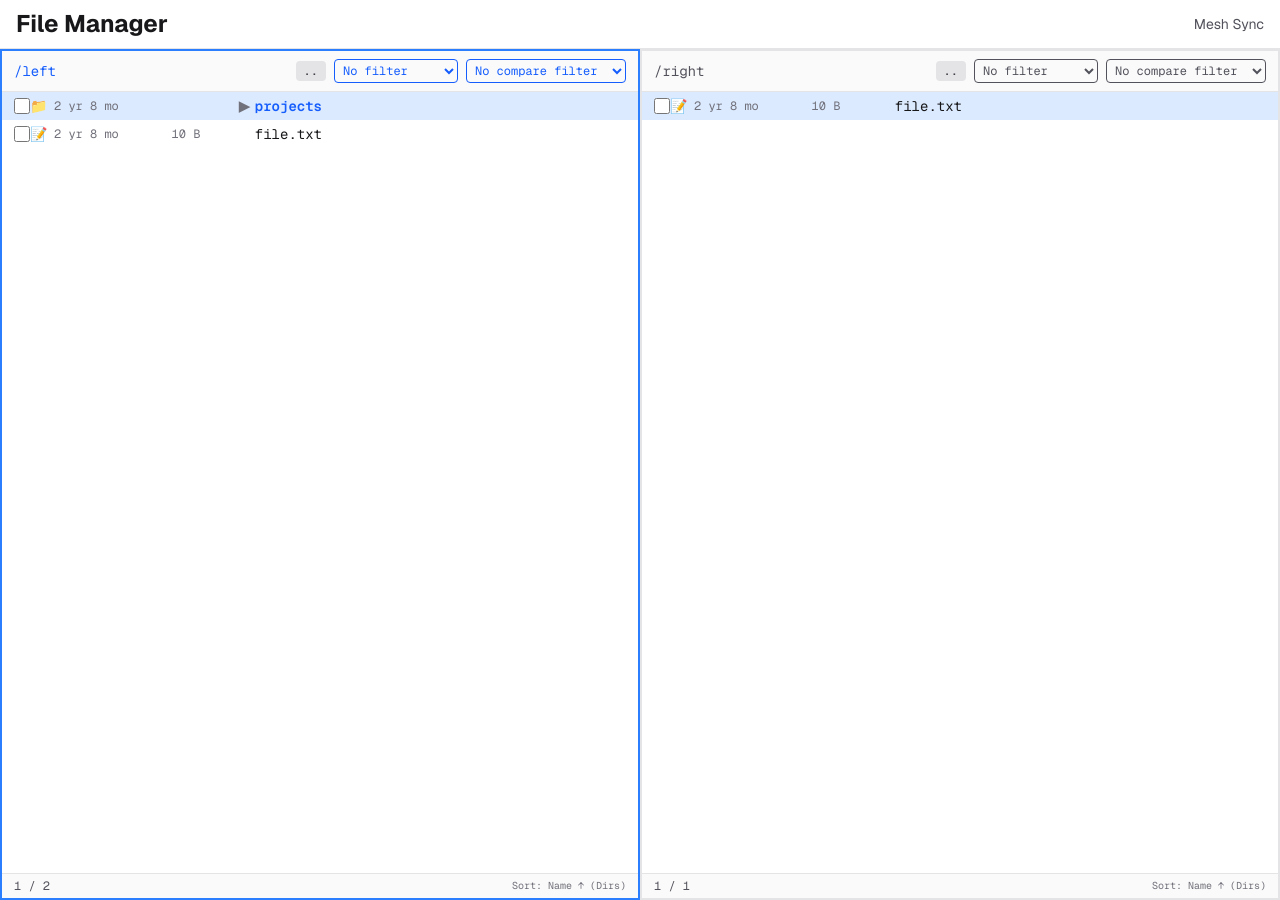
Test: WorkspaceView set base directory [SET_BASE_DIRECTORY] › opens dialog with directory path and applies In this pane
expect the element with test id "pane-0" is shown: met, box top-left (0, 49), bottom-right (640, 899)
Right-click the text "projects" at (320, 106), box top-left (2, 92), bottom-right (638, 120)
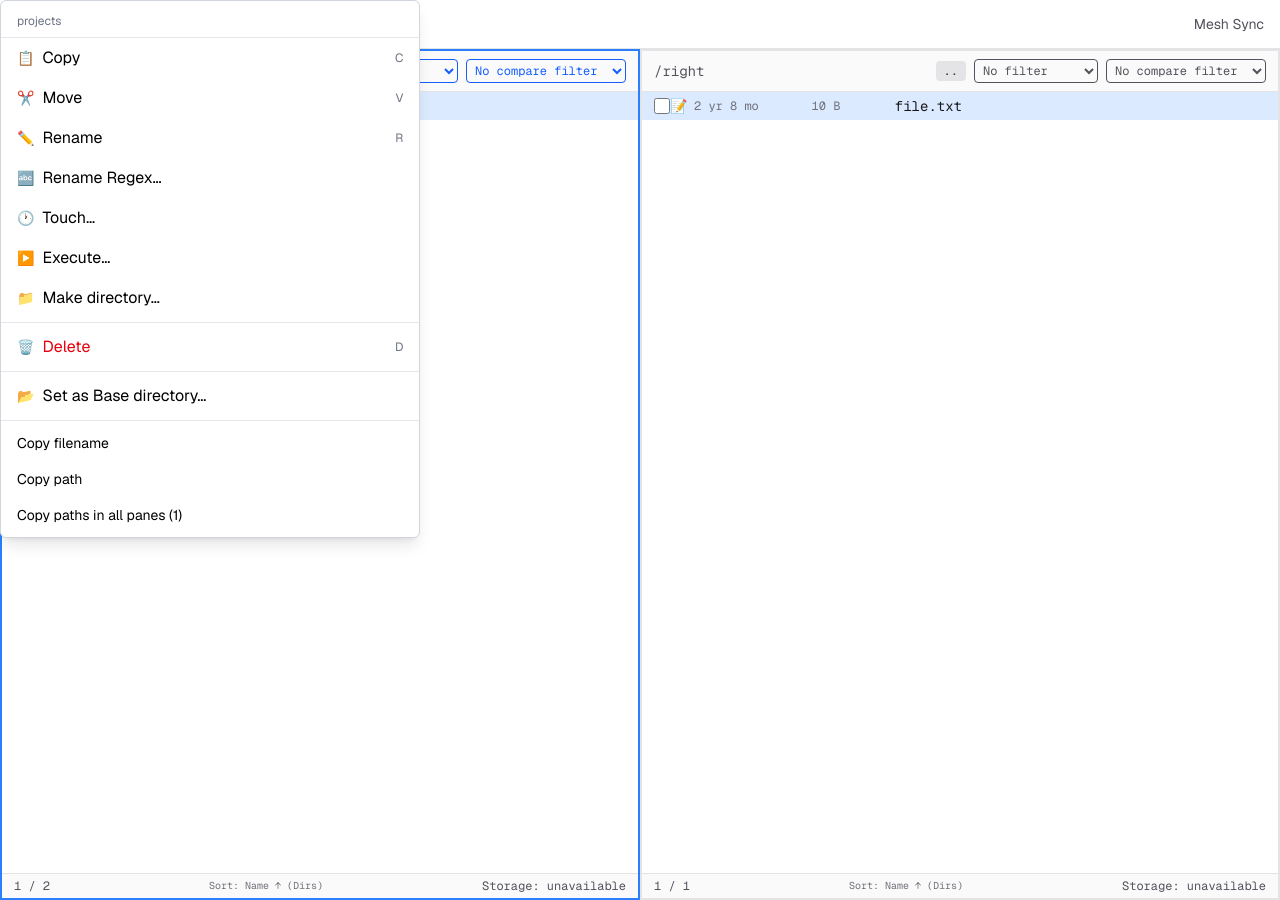
Click the menu item with test id "set-base-directory-menu-item" at (124, 396), box top-left (1, 376), bottom-right (419, 416)
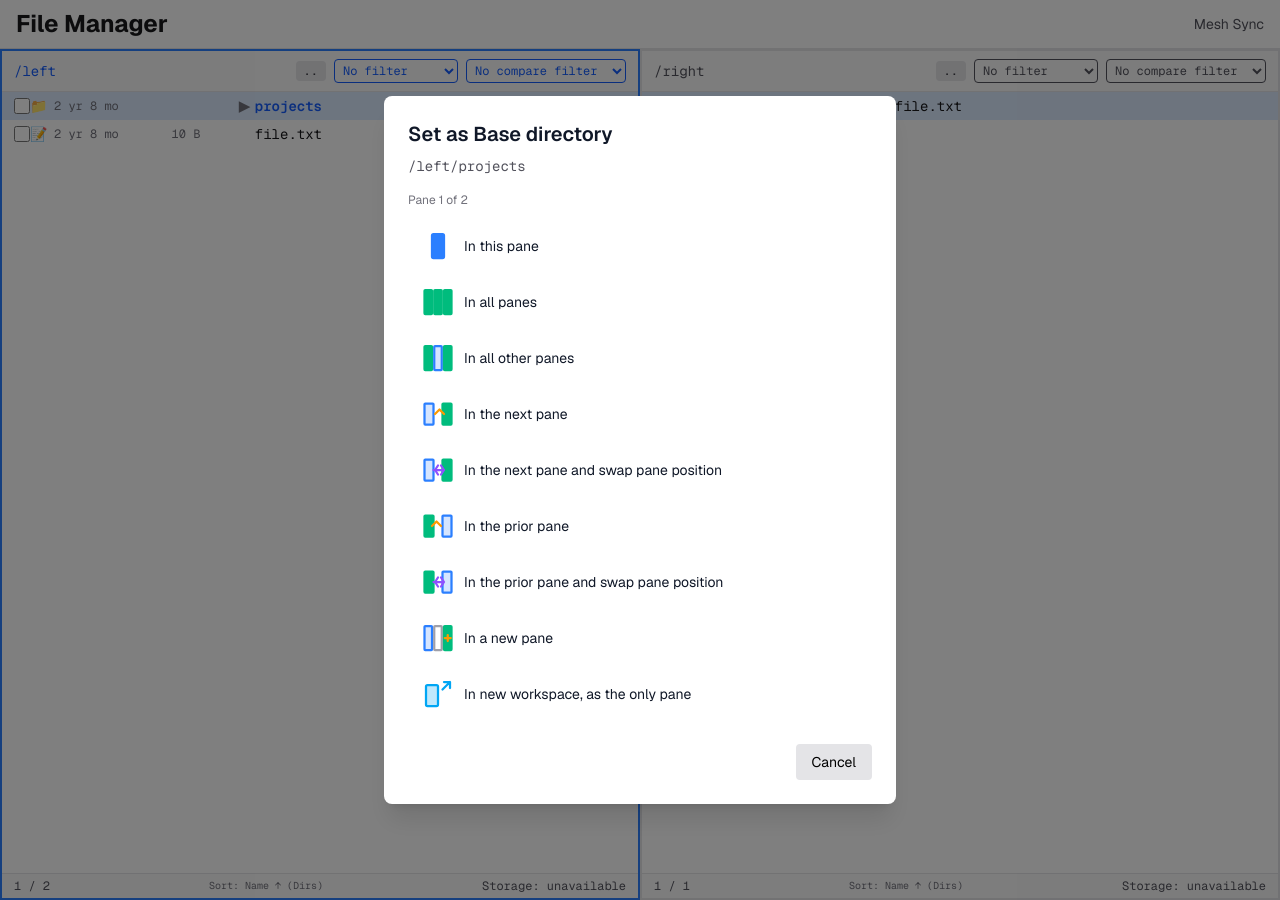
expect the dialog with test id "set-base-directory-dialog" is shown: met, box top-left (384, 96), bottom-right (896, 804)
expect the text with test id "set-base-directory-path" reads "/left/projects": met, box top-left (408, 157), bottom-right (526, 175)
Click the button with test id "set-base-in-this-pane" at (438, 246), box top-left (408, 220), bottom-right (872, 272)
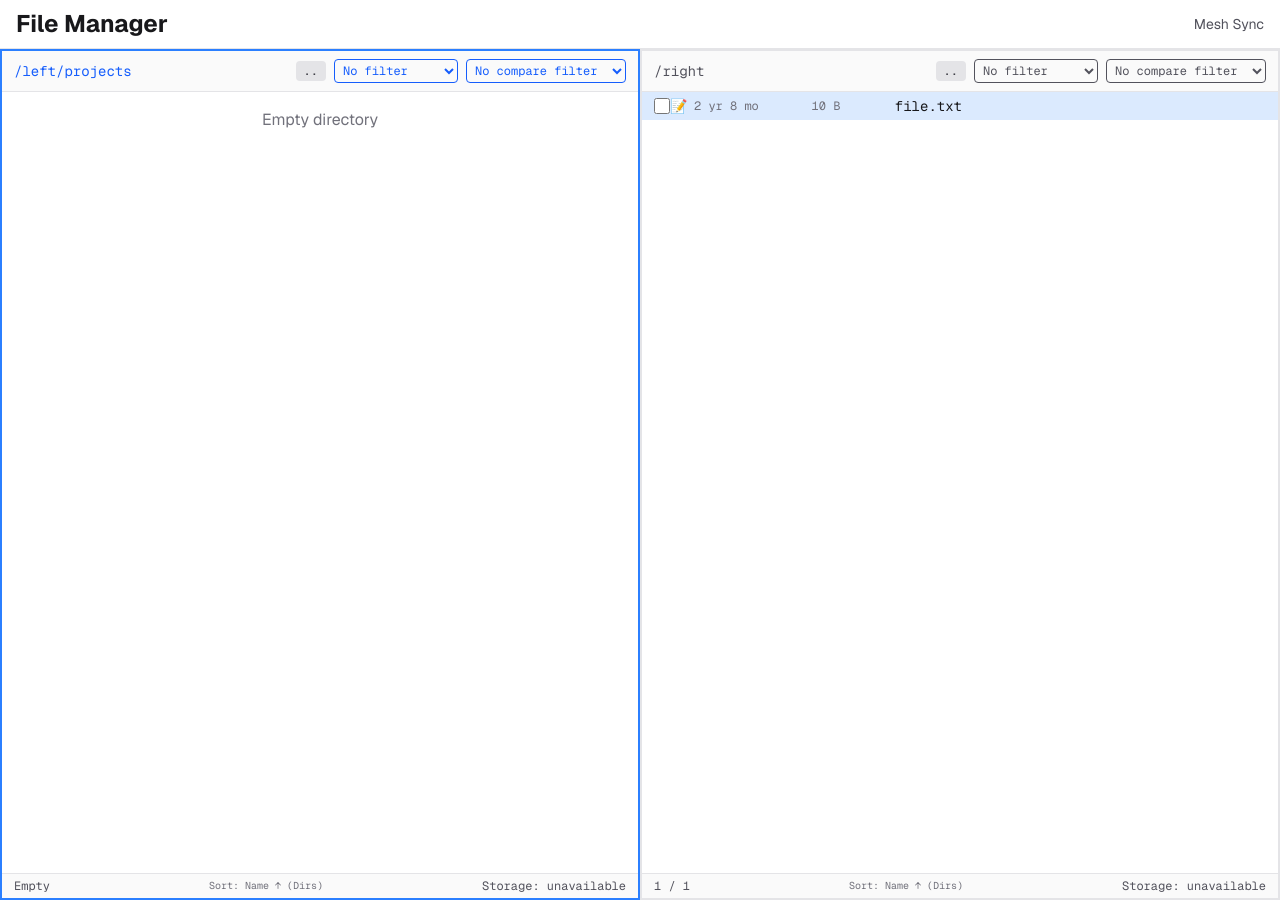
expect the dialog with test id "set-base-directory-dialog" is gone: met
